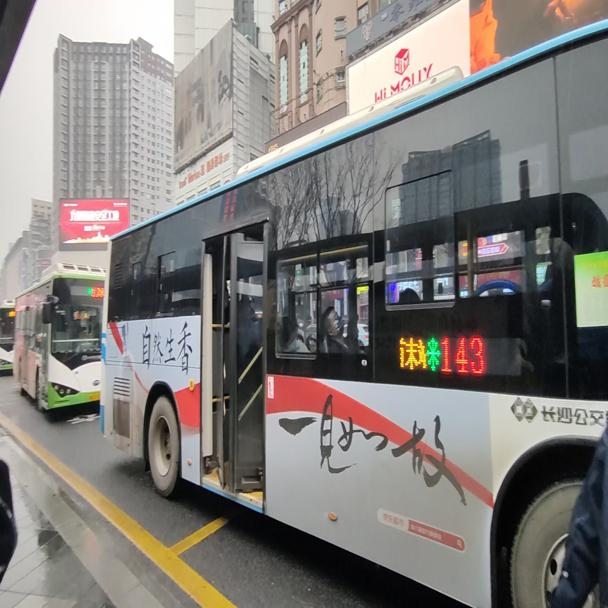bus: (98, 18, 607, 606), (11, 262, 102, 414), (0, 299, 14, 374)
screen: (440, 334, 484, 372)
